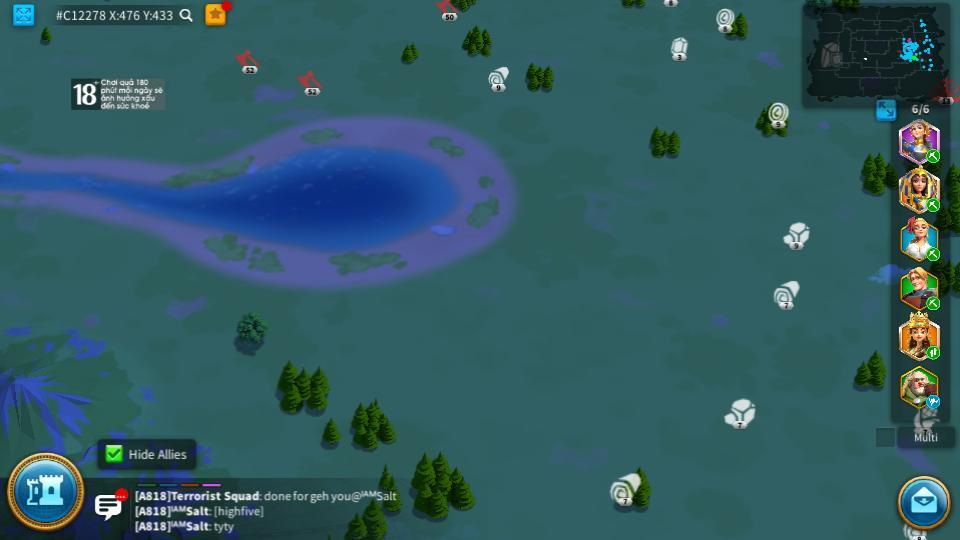gem-z-out: (669, 36, 688, 59)
march_idle: (925, 395, 942, 407)
march_marching: (925, 345, 941, 359), (925, 199, 941, 212), (925, 150, 941, 162), (926, 297, 941, 308)
